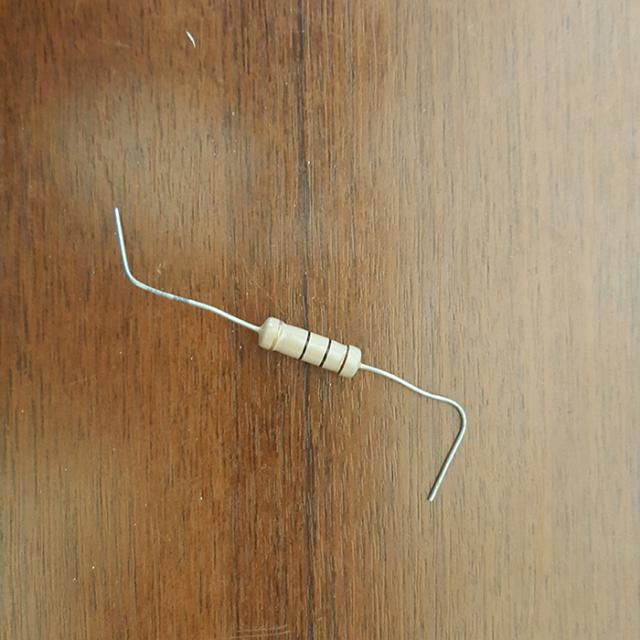black: (320, 339, 332, 368), (299, 332, 311, 358)
brown: (336, 346, 349, 375)
gold: (269, 320, 281, 349)
resistor: (246, 305, 374, 392)
